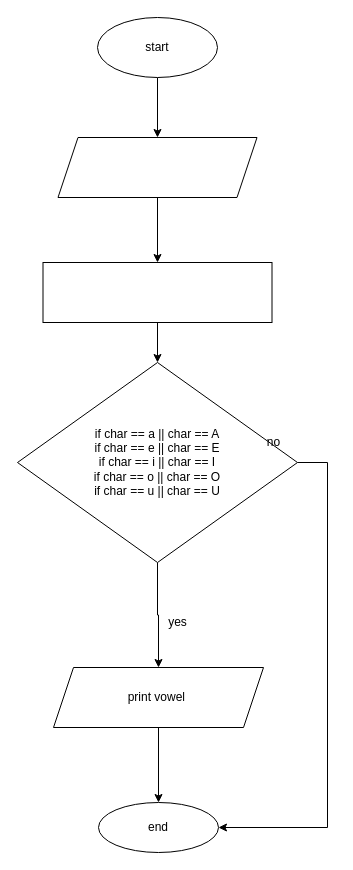
Image size: 353x870. Some labels were removed from this diagram. Each missing label, with the centre of its shape:
"declare variable char" goes at point 157,292.
"raed char" goes at point 157,167.
